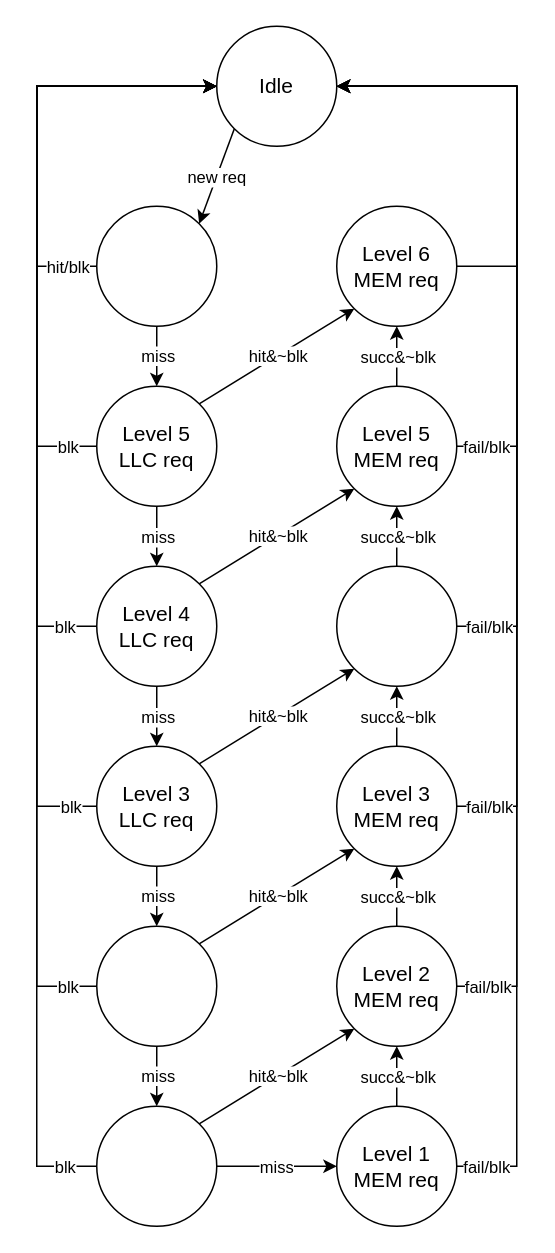
The diagram is 555 pixels wide and 1253 high, and some of its shapes have lost their labels. The centre of each missing label's shape, as x and y in pixels:
"Level 1 LLC req" goes at pixel 156 1165.
"Level 2 LLC req" goes at pixel 156 985.
"Level 4 MEM req" goes at pixel 396 625.
"Level 6 LLC req" goes at pixel 156 265.
